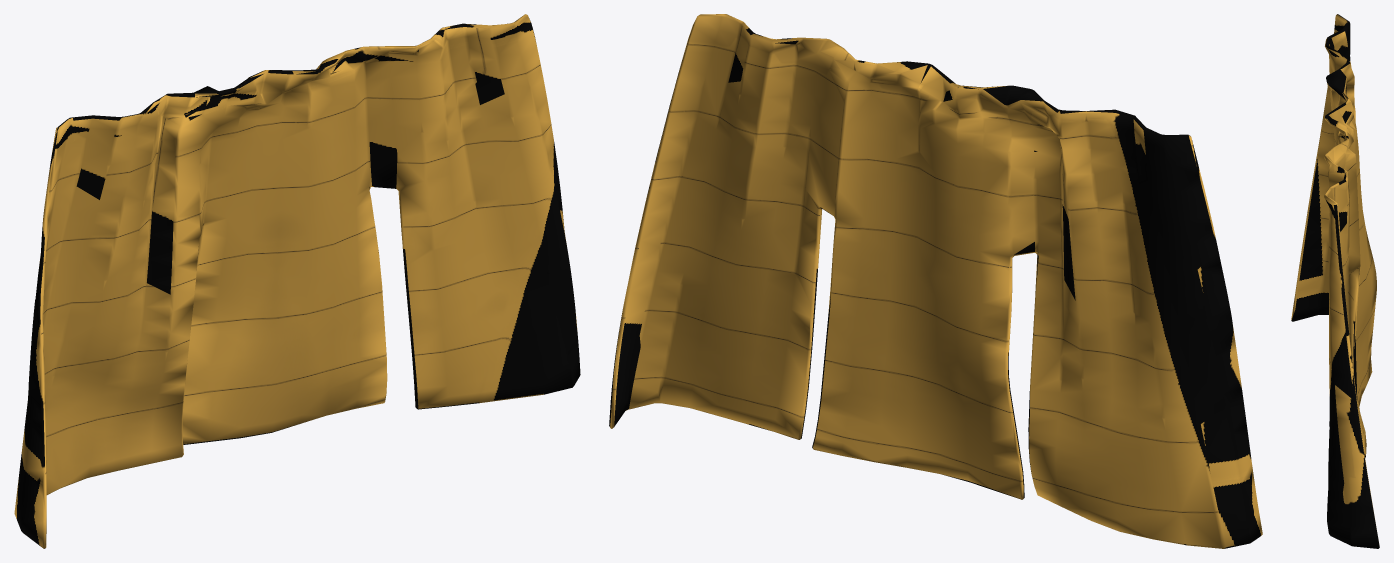
Rendered from Centinela_Capa.fbx.
3 views of the same model, side by side, from view 1: azimuth 30°, elevation 25°; view 2: azimuth 150°, elevation 25°; view 3: azimuth 270°, elevation 25° (orthographic). The views are drawn at different scales.
Parts seen in each view (by area): view 1: Centinela_Capa; view 2: Centinela_Capa; view 3: Centinela_Capa.
Part boxes in pixels (x1,y1,x2,y2): Centinela_Capa: (14,14,580,548); Centinela_Capa: (609,14,1262,548); Centinela_Capa: (1291,14,1379,548).
Size of the model in its own units: 4.48 by 2.91 by 0.7183.
